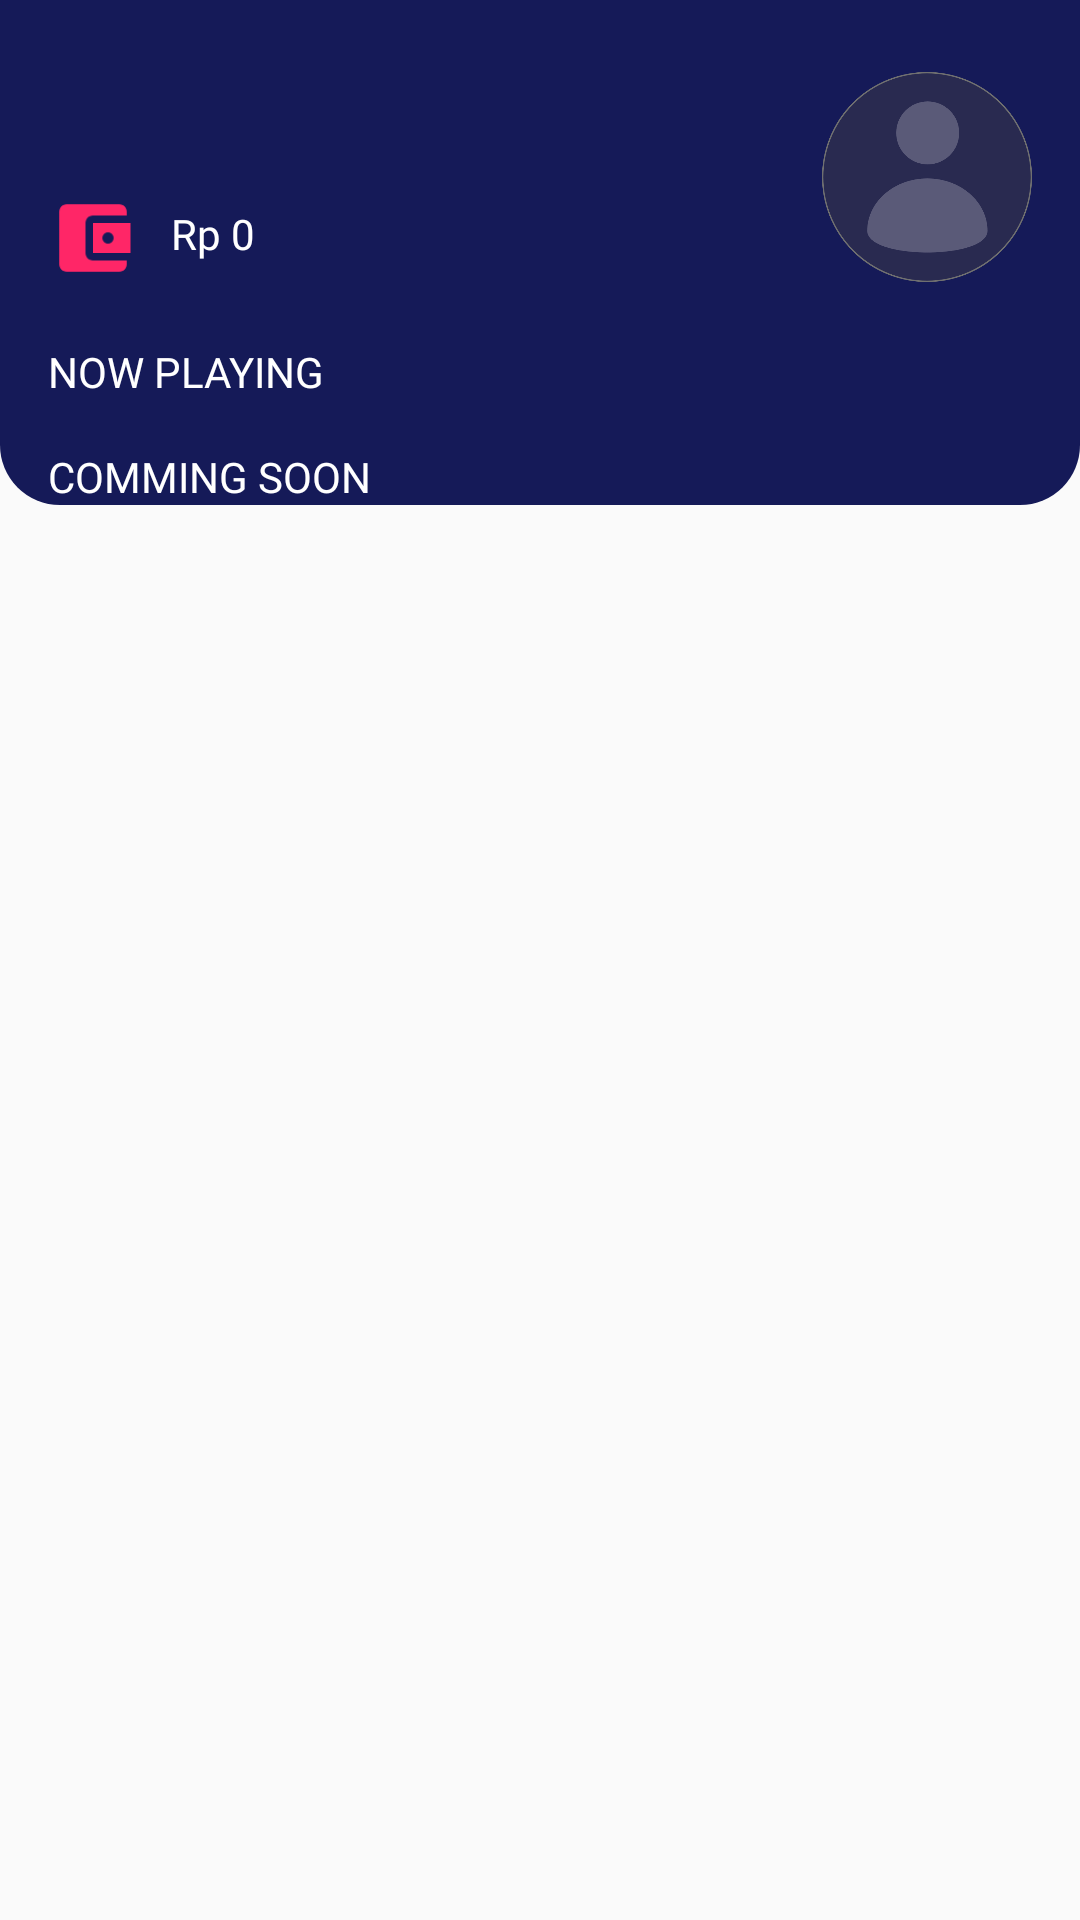

Icon click points for this 1080×1920 phone screenshot, format point (x, y):
account balance wallet: point (95, 238)
user pic: point (927, 177)
